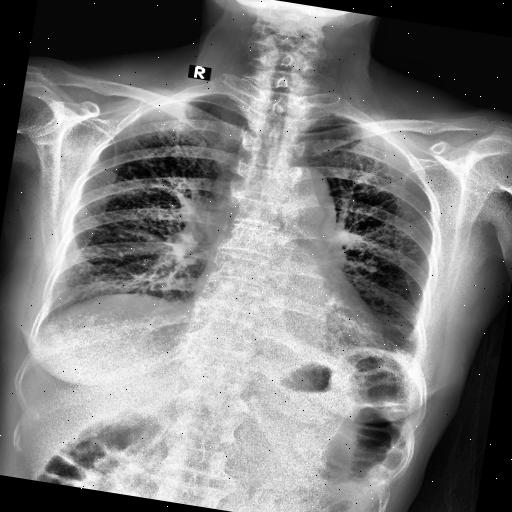0- Aortic enlargement: (270, 160, 348, 234), (271, 163, 341, 241), (268, 160, 345, 230)
3- Cardiomegaly: (182, 282, 389, 363), (182, 278, 394, 352)
5- ILD: (53, 180, 223, 329), (328, 255, 428, 358)
